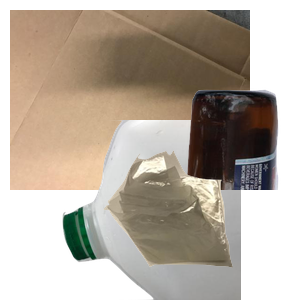cardboard: (10, 10, 250, 190)
glass: (87, 87, 300, 267)
plastic: (60, 120, 300, 300)
trash: (101, 148, 300, 300)
